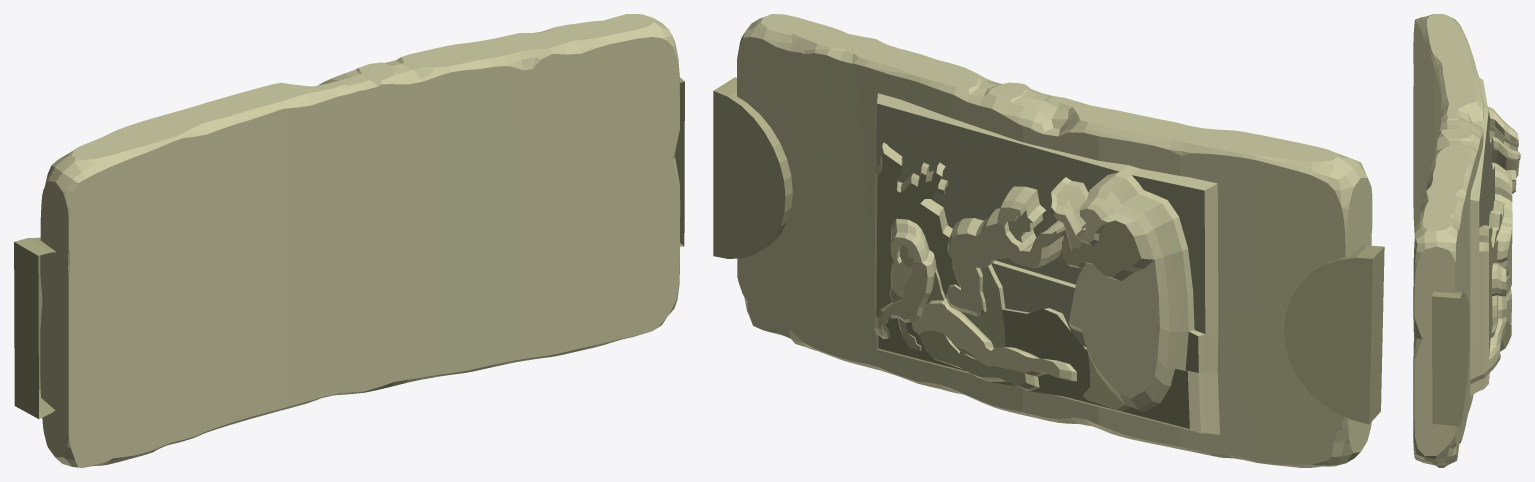
The model's file is PARAISO2.fbx.
3 views of the same model, side by side, from view 1: azimuth 30°, elevation 25°; view 2: azimuth 150°, elevation 25°; view 3: azimuth 270°, elevation 25° (orthographic). The views are drawn at different scales.
Visible parts, largest first — view 1: Cylinder.015; view 2: Cylinder.015; view 3: Cylinder.015.
Boxes of the visible parts, x1=… form: Cylinder.015: x1=14, y1=14, x2=684, y2=467; Cylinder.015: x1=713, y1=14, x2=1384, y2=467; Cylinder.015: x1=1413, y1=14, x2=1520, y2=467.
Bounding box in the file's own units: 1587 × 711 × 290.
